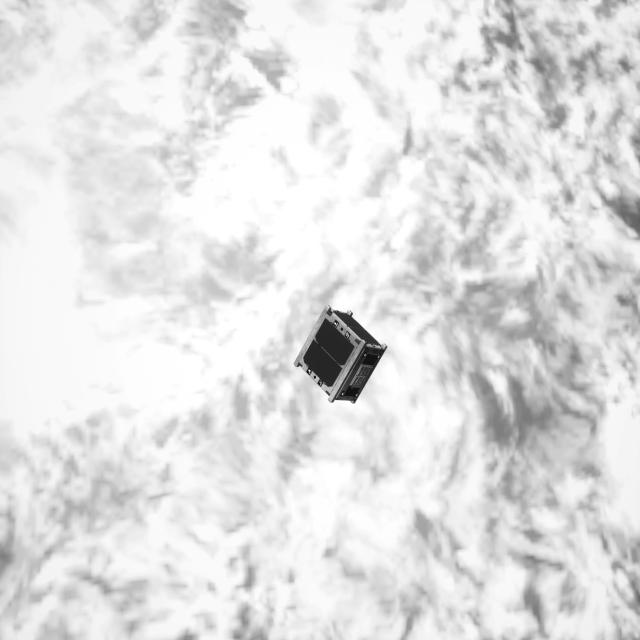medium_debris: (293, 303, 388, 408)
